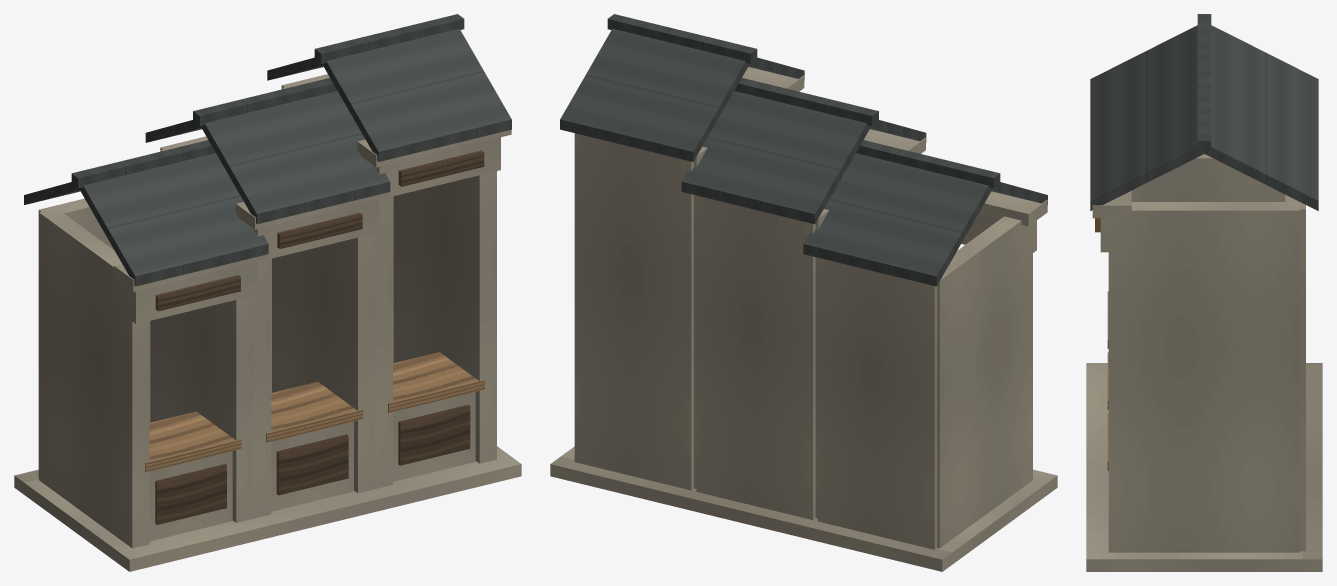
3 views of the same model, side by side, from view 1: azimuth 30°, elevation 25°; view 2: azimuth 150°, elevation 25°; view 3: azimuth 270°, elevation 25° (orthographic). The views are drawn at different scales.
Parts seen in each view (by area): view 1: noumea; view 2: noumea; view 3: noumea.
Boxes of the visible parts, left/top/right/bottom form: noumea: left=14, top=14, right=521, bottom=571; noumea: left=550, top=14, right=1057, bottom=571; noumea: left=1086, top=14, right=1322, bottom=571.
Bounding box in the file's own units: 2.45 × 2.5 × 1.25.
1 material, 1 textured.
